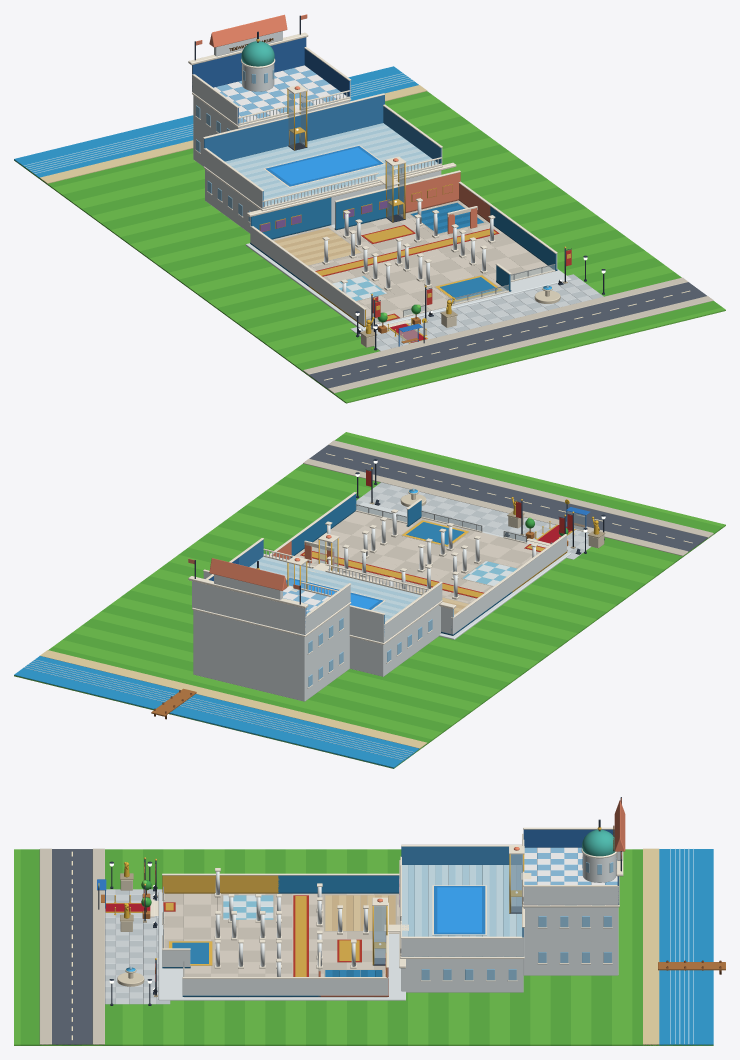
File: shell.glb
3 renders of one model, top to bottom at view 1: azimuth 30°, elevation 25°; view 2: azimuth 150°, elevation 25°; view 3: azimuth 270°, elevation 25°, orthographic. The views are drawn at different scales.
Visible parts, largest first — view 1: grounds, building, floor_shipwreck_deck, floor_lighthouse_terrace, crown, lift_shipwreck_deck, lift_lighthouse_terrace, grand_2, dome, grand_4; view 2: grounds, building, floor_lighthouse_terrace, floor_shipwreck_deck, crown, grand_2, lift_shipwreck_deck, grand_4, lift_lighthouse_terrace; view 3: grounds, building, floor_shipwreck_deck, floor_lighthouse_terrace, crown, lift_shipwreck_deck, lift_lighthouse_terrace, dome, grand_4, grand_2, grand_3.
Part boxes in pixels (x1,y1,x2,y2): grounds: (14, 66, 725, 403); building: (245, 170, 571, 330); floor_shipwreck_deck: (203, 93, 442, 233); floor_lighthouse_terrace: (192, 37, 351, 166); crown: (188, 14, 456, 216); lift_shipwreck_deck: (376, 156, 406, 222); lift_lighthouse_terrace: (286, 84, 307, 150); grand_2: (371, 246, 571, 333); dome: (241, 41, 274, 66); grand_4: (360, 297, 457, 347); grounds: (14, 432, 725, 768); building: (263, 492, 571, 639); floor_lighthouse_terrace: (192, 556, 351, 701); floor_shipwreck_deck: (203, 538, 442, 676); crown: (188, 558, 456, 609); grand_2: (365, 467, 575, 550); lift_shipwreck_deck: (310, 533, 339, 573); grand_4: (507, 497, 605, 548); lift_lighthouse_terrace: (287, 556, 307, 591); grounds: (14, 848, 725, 1045); building: (150, 868, 405, 1000); floor_shipwreck_deck: (400, 833, 524, 992); floor_lighthouse_terrace: (522, 827, 619, 975); crown: (399, 797, 625, 968); lift_shipwreck_deck: (372, 897, 408, 965); lift_lighthouse_terrace: (509, 846, 531, 913); dome: (582, 829, 615, 856); grand_4: (120, 862, 133, 931); grand_2: (141, 857, 157, 997); grand_3: (105, 885, 157, 994).
Bounding box in the file's own units: 34 × 10.73 × 52.4.
